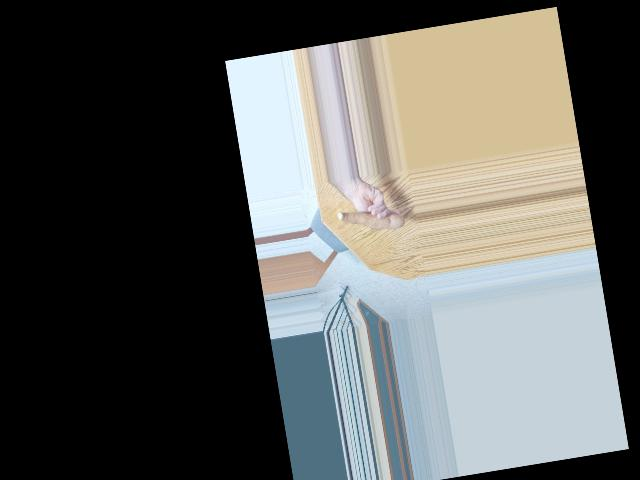sweet_potato: (335, 201, 403, 241)
